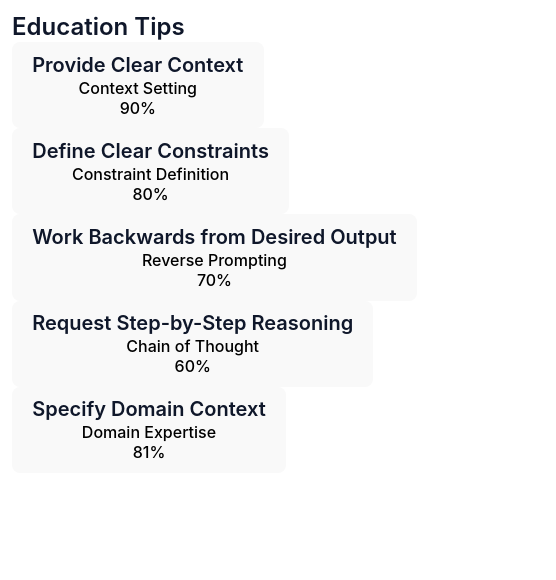
EducationPanel Component › Expand/Collapse Functionality › should show examples when tip is expanded
The width and height of the screenshot is (556, 580).
What coordinates should you click on to do the following:
click the heading "Define Clear Constraints"
I would click on:
 (151, 151)
Its box is 32,139 -> 269,164.
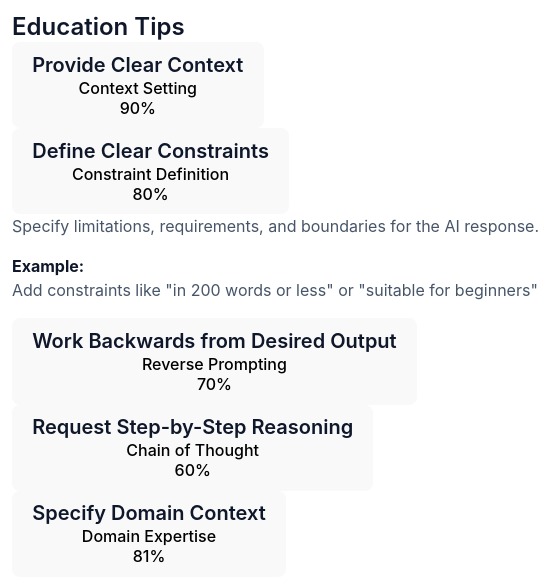
Result: the text "Add constraints like \"in 200 words or less\" or \"suitable for beginners\"" is shown at 12,278 -> 539,302
